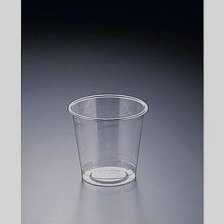glass: (63, 90, 151, 189)
